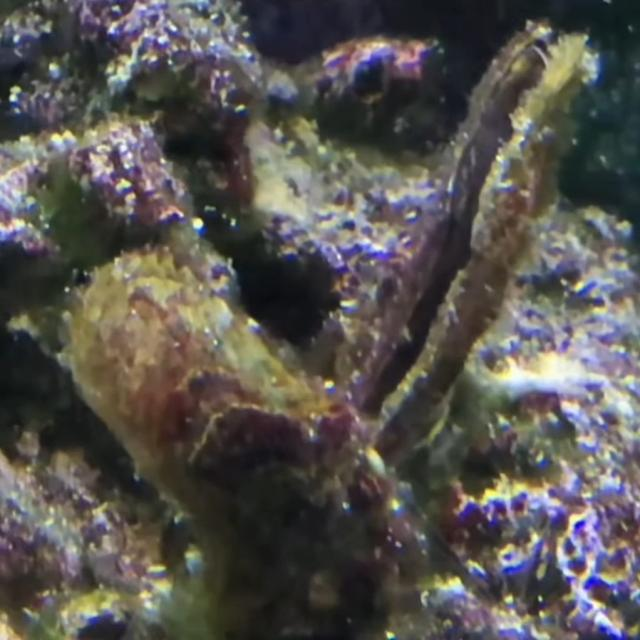Oyster-Indeterminate: (67, 252, 396, 608)
Oyster-Open: (306, 23, 600, 466)
